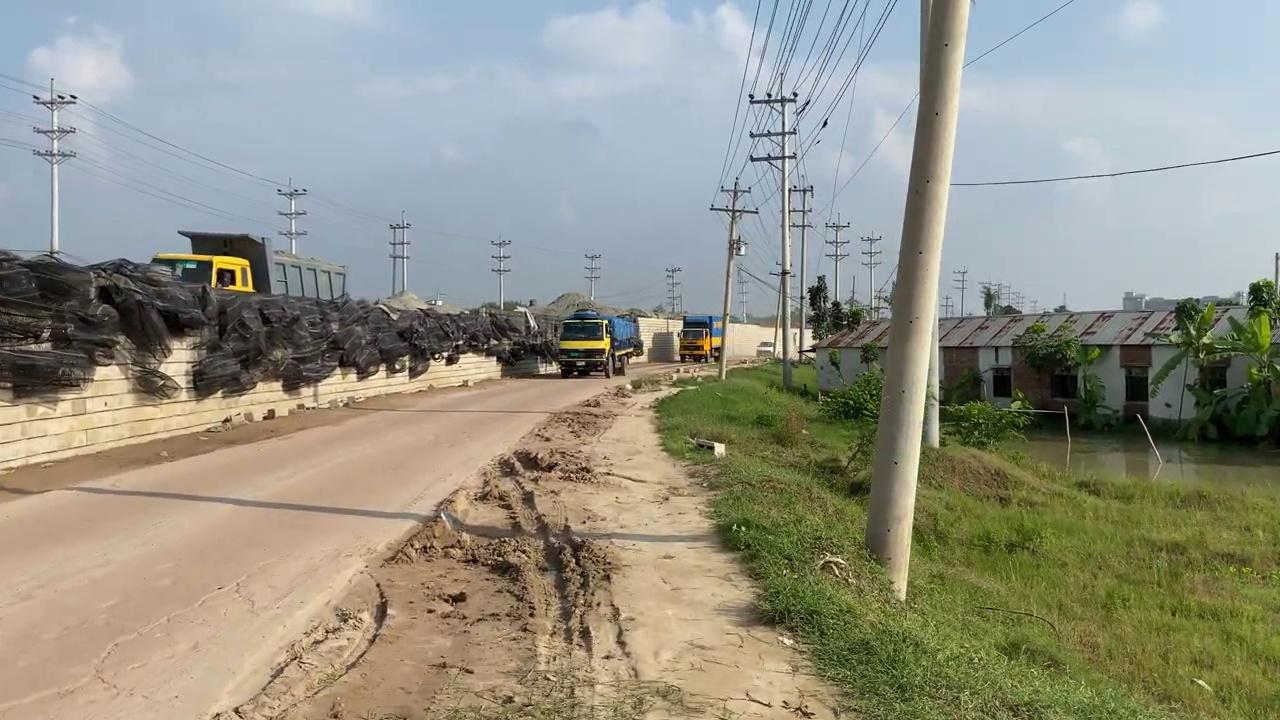Garbage: (0, 247, 558, 401)
Pole: (863, 0, 972, 602)
Rickshaw: (260, 365, 845, 719)
Sidewalk: (996, 417, 1278, 499)
Tree: (148, 229, 347, 301), (555, 308, 637, 378), (491, 305, 559, 375), (149, 252, 256, 294), (677, 314, 722, 363), (615, 311, 644, 358)
Upstairs: (0, 332, 518, 470)
